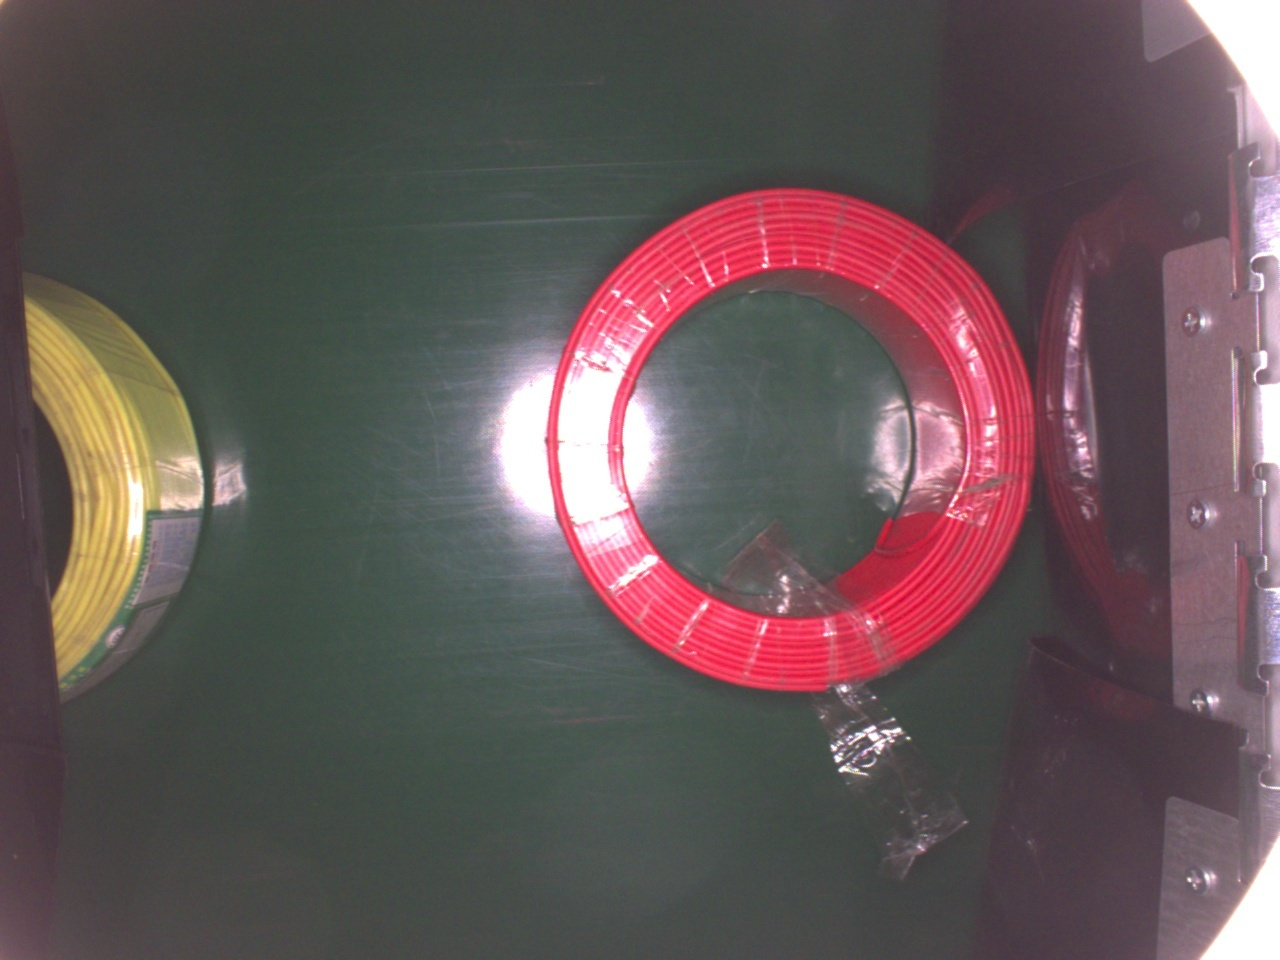red: (542, 186, 1041, 695)
yellow: (16, 268, 207, 706)
